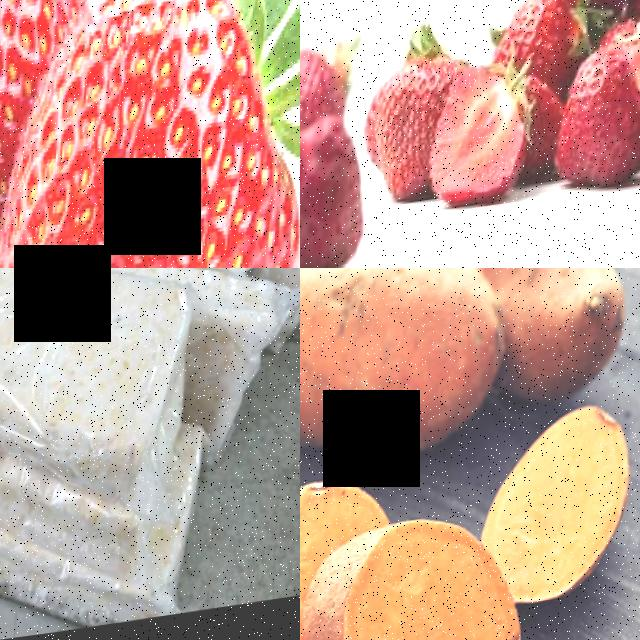strawberry: (71, 0, 300, 268), (363, 51, 448, 224), (451, 66, 543, 210), (300, 115, 376, 268), (571, 47, 640, 208), (497, 0, 578, 77), (300, 45, 367, 121)
sweet potato: (300, 268, 502, 495), (312, 514, 539, 640), (514, 414, 640, 628), (493, 268, 636, 420)
tempeh: (0, 268, 204, 523), (196, 284, 276, 470)
